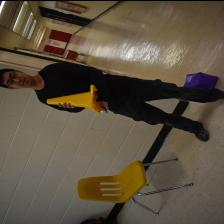cone: (47, 84, 103, 112)
cube: (183, 71, 218, 88)
